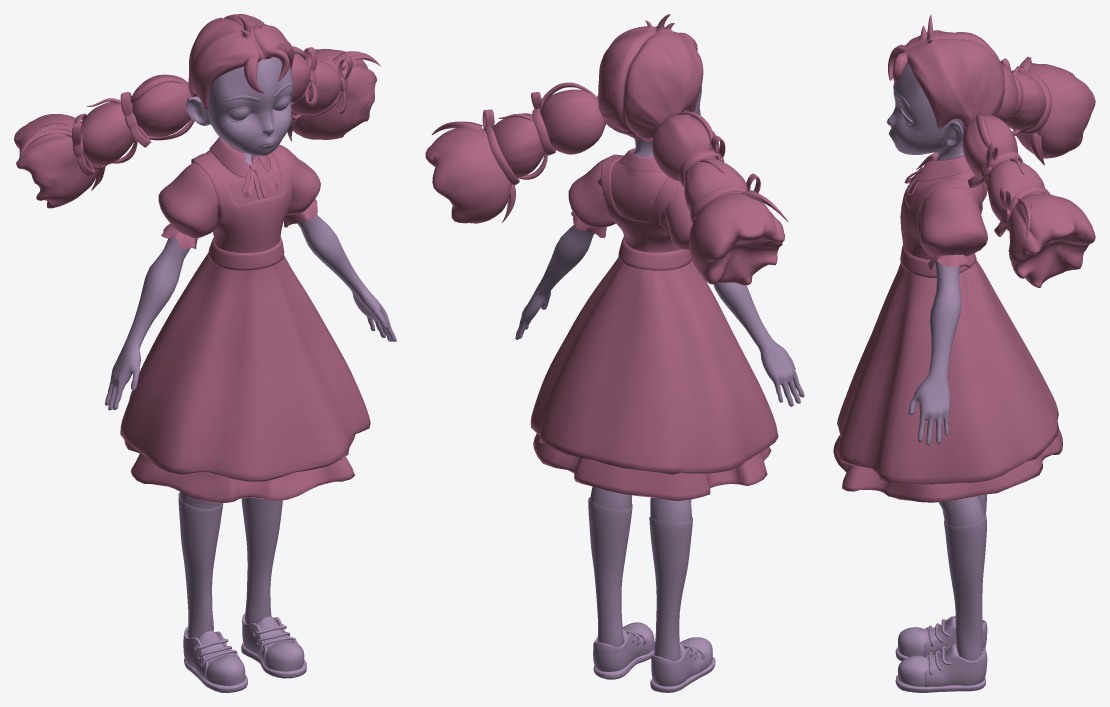
The model's file is Parcial01_low.fbx.
3 views of the same model, side by side, from view 1: azimuth 30°, elevation 25°; view 2: azimuth 150°, elevation 25°; view 3: azimuth 270°, elevation 25° (orthographic).
Visible parts, largest first — view 1: Skirt_low, Pigtails_low, Socks_low, Torso_low, Face_low, HairBase_low, UnderSkirt_low, Vest_low, Sleeves_low, Shoe_low, Shirt_low, LoseHairs_low (+7 smaller); view 2: Skirt_low, Pigtails_low, HairBase_low, Socks_low, Torso_low, UnderSkirt_low, Shirt_low, Sleeves_low, ShoePart_low, Vest_low, HairBands_low, LoseHairs_low (+5 smaller); view 3: Skirt_low, Pigtails_low, HairBase_low, Torso_low, Socks_low, UnderSkirt_low, Sleeves_low, Face_low, ShoePart_low, Shoe_low, Shirt_low, Vest_low (+8 smaller).
Boxes of the visible parts, x1,y1,x2,y2 form: Skirt_low: (120,252,370,482); Pigtails_low: (14,49,376,208); Socks_low: (178,492,282,638); Torso_low: (105,215,396,410); Face_low: (185,57,293,164); HairBase_low: (188,14,294,109); UnderSkirt_low: (124,434,355,503); Vest_low: (191,144,292,252); Sleeves_low: (158,145,320,238); Shoe_low: (186,616,304,685); Shirt_low: (194,137,282,226); LoseHairs_low: (20,46,380,190); Skirt_low: (530,257,778,474); Pigtails_low: (425,89,784,285); HairBase_low: (598,14,703,141); Socks_low: (588,497,692,661); Torso_low: (515,225,804,406); UnderSkirt_low: (533,433,771,500); Shirt_low: (597,148,676,230); Sleeves_low: (568,157,695,249); ShoePart_low: (593,633,707,686); Vest_low: (601,154,680,252); HairBands_low: (483,108,746,223); LoseHairs_low: (432,82,788,222); Skirt_low: (837,260,1058,484); Pigtails_low: (962,63,1095,287); HairBase_low: (888,14,1004,140); Torso_low: (908,254,961,445); Socks_low: (944,494,986,660); UnderSkirt_low: (833,428,1062,502); Sleeves_low: (920,162,987,256); Face_low: (886,64,964,160); ShoePart_low: (924,616,987,686); Shoe_low: (898,616,983,686); Shirt_low: (906,152,983,232); Vest_low: (900,164,982,259).
Size of the model in its own units: 5.13 by 8.99 by 3.28.
